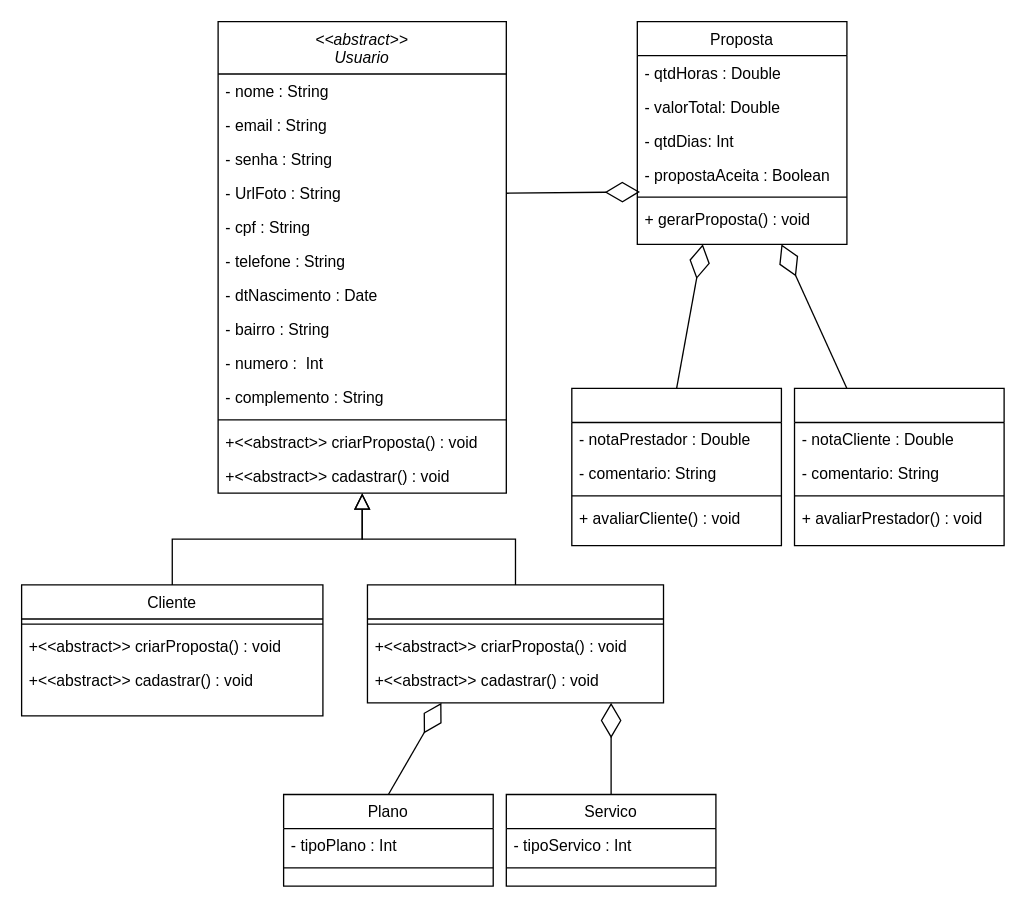
This 1026x908 diagram has some shape labels left out. Each missing label, with the box of its shape:
AvaliacaoCliente: (793, 387, 1004, 546)
AvaliacaoPrestador: (571, 387, 781, 546)
PrestadorServico: (366, 584, 664, 703)
